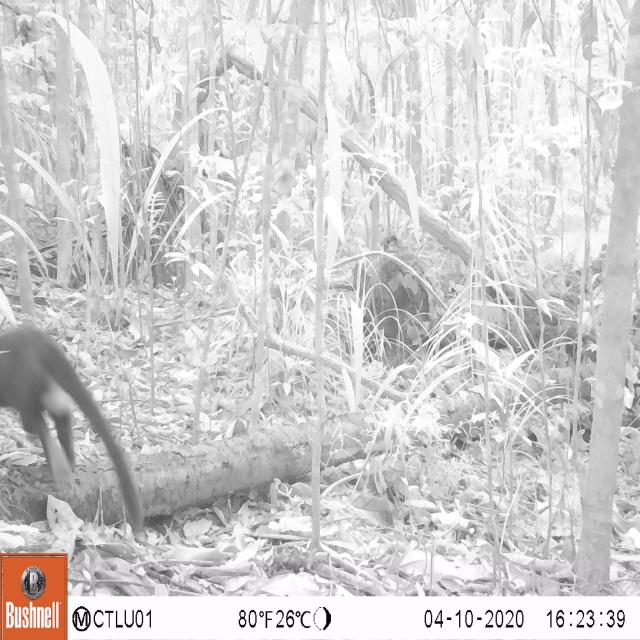Tayra: (0, 293, 137, 494)
